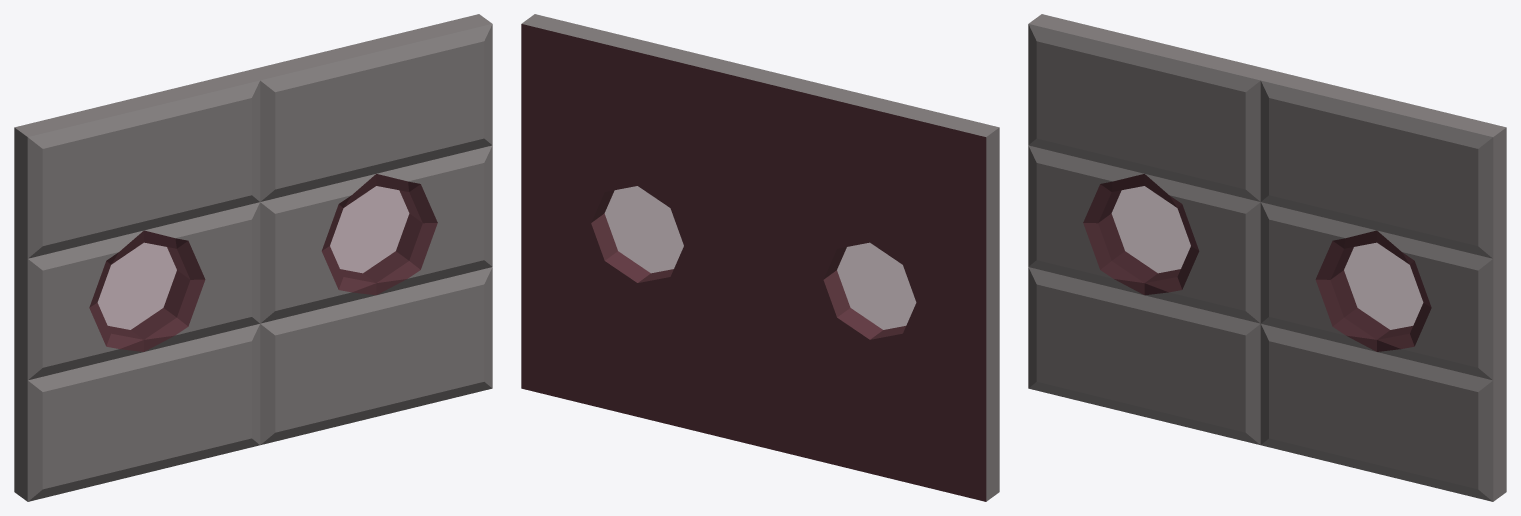
The model's file is scifi-wall-windows.fbx.
3 renders of one model, left to right at view 1: azimuth 30°, elevation 25°; view 2: azimuth 150°, elevation 25°; view 3: azimuth 330°, elevation 25°, orthographic.
Parts seen in each view (by area): view 1: scifi-wall-windows; view 2: scifi-wall-windows; view 3: scifi-wall-windows.
Boxes of the visible parts, x1,y1,x2,y2 form: scifi-wall-windows: (14, 14, 492, 501); scifi-wall-windows: (521, 14, 999, 501); scifi-wall-windows: (1028, 14, 1506, 501).
Bounding box in the file's own units: 4 × 3 × 0.25.
